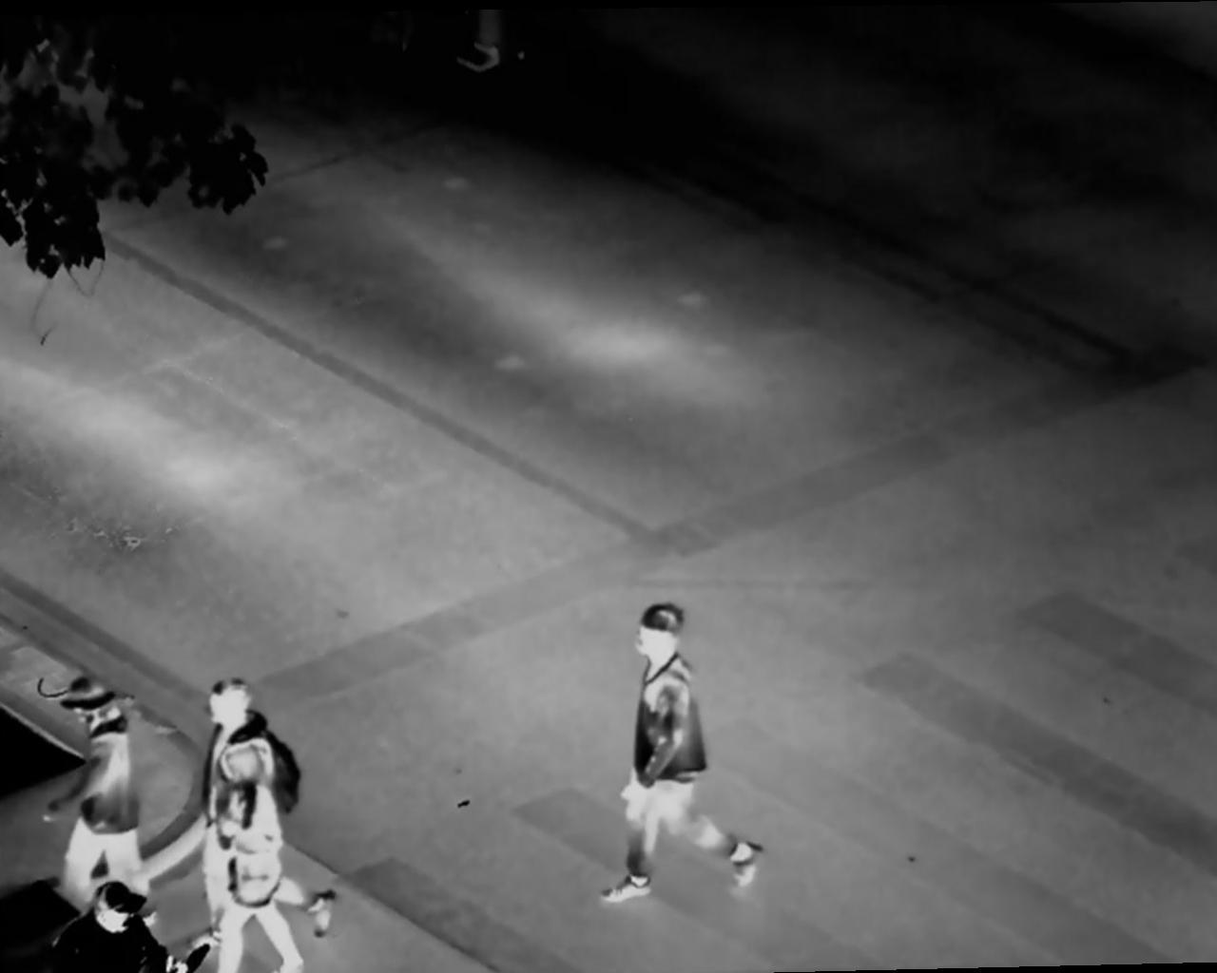person: (594, 590, 774, 904), (57, 680, 170, 921), (216, 753, 313, 973), (61, 887, 169, 973), (192, 681, 261, 749)
